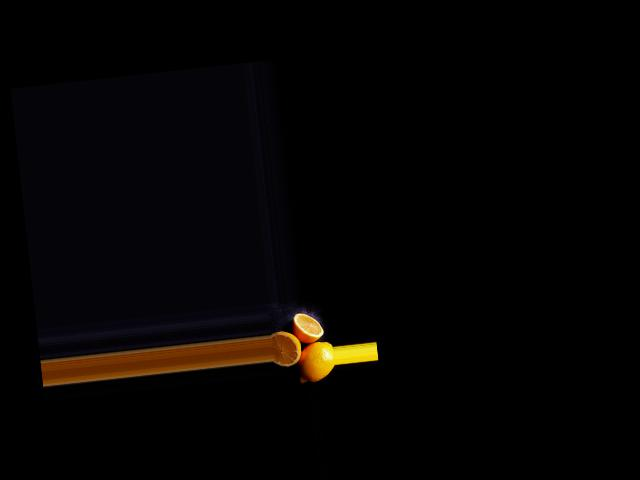lemon: (295, 338, 335, 386)
